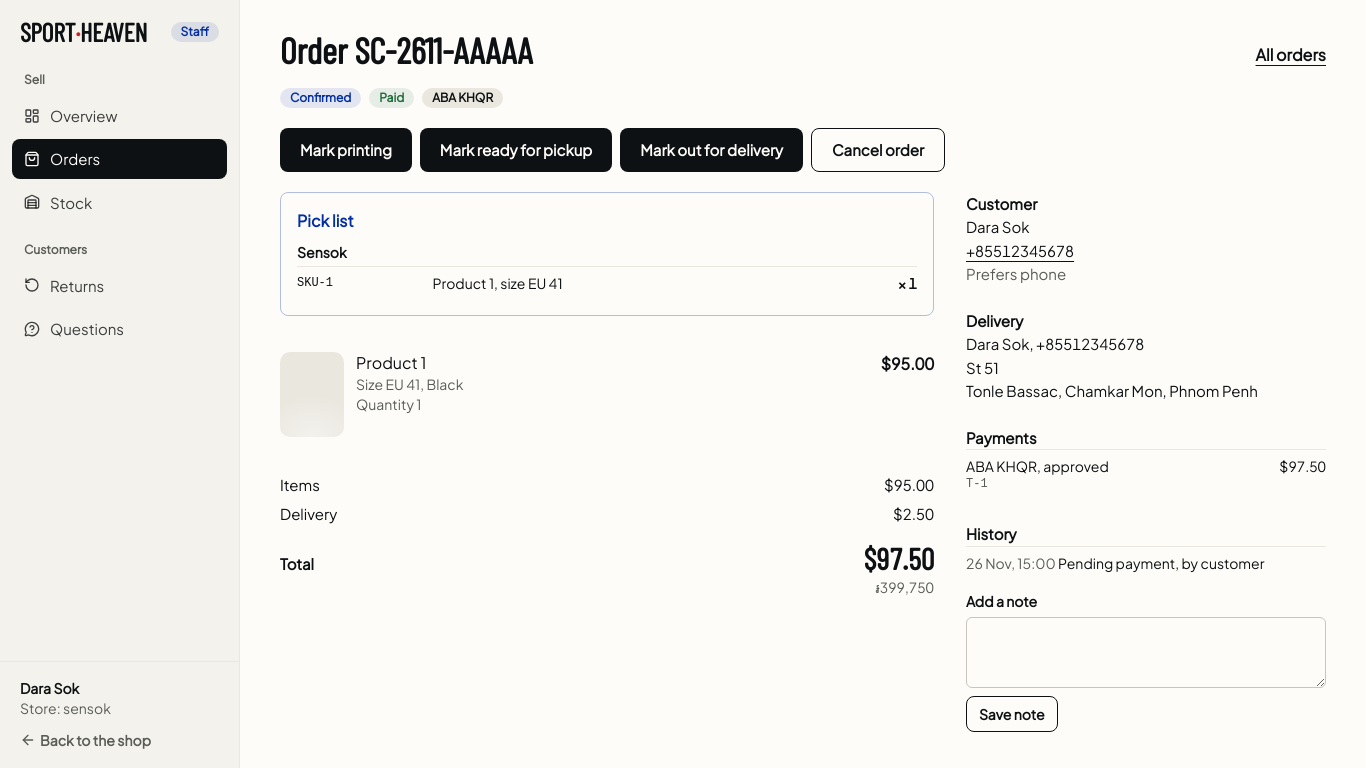
admin orders › shows the pick list and payments, and moves the order on
Check: the text "SKU-1" is shown, box x1=297 y1=266 x2=432 y2=299
Check: the text "T-1" is shown, box x1=966 y1=477 x2=988 y2=491
Click the button "Mark out for delivery" at [712, 150], box x1=620 y1=128 x2=803 y2=172
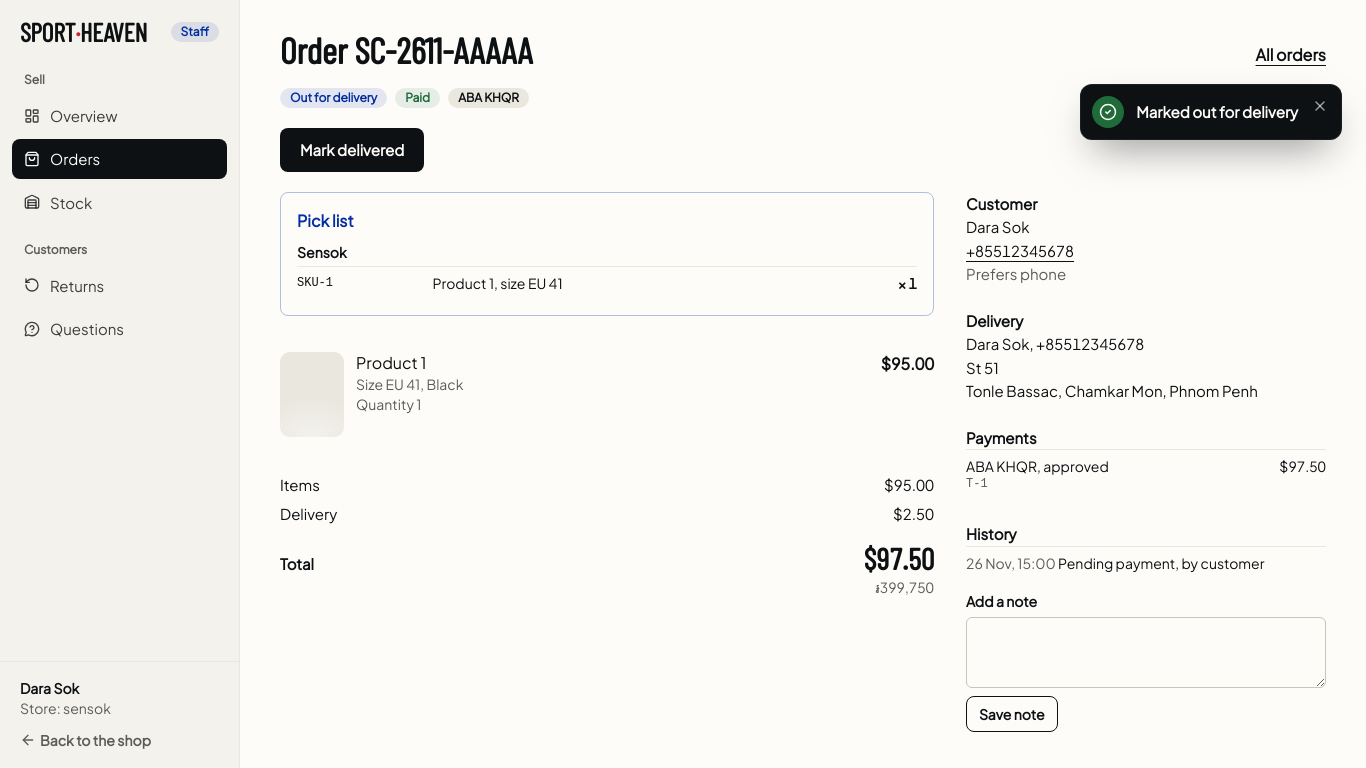
Check: the button "Mark delivered" is shown, box x1=280 y1=128 x2=424 y2=172
